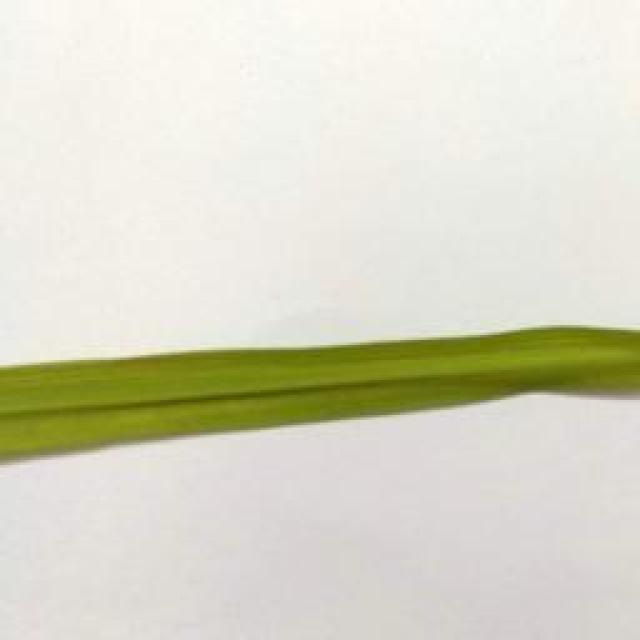Healthy-Plant: (0, 317, 640, 481)
